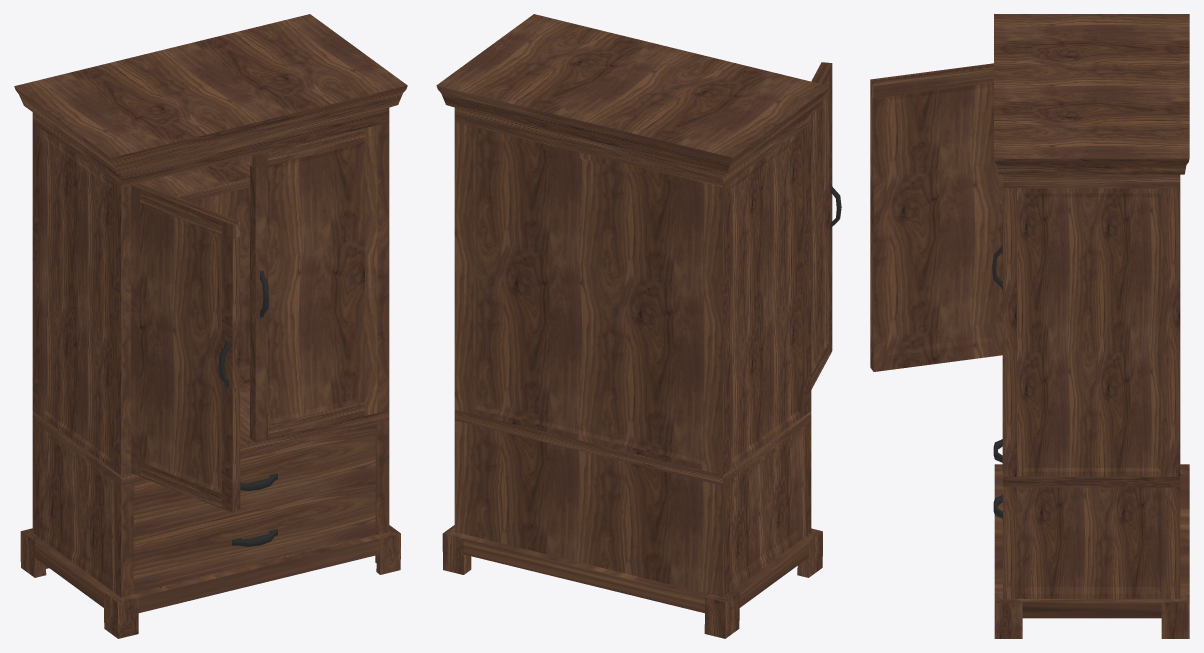
File: wardrobe.glb
3 views of the same model, side by side, from view 1: azimuth 30°, elevation 25°; view 2: azimuth 150°, elevation 25°; view 3: azimuth 270°, elevation 25° (orthographic).
Visible parts, largest first — view 1: Wardrobe, Wardrobe Door Right.001, Wardrobe Door Left.001, Wardrobe Drawer 2.001, Wardrobe Drawer 2.002; view 2: Wardrobe, Wardrobe Door Left.001; view 3: Wardrobe, Wardrobe Door Left.001, Wardrobe Door Right.001.
Boxes of the visible parts, x1,y1,x2,y2 form: Wardrobe: (14, 14, 407, 638); Wardrobe Door Right.001: (250, 125, 377, 442); Wardrobe Door Left.001: (131, 183, 240, 512); Wardrobe Drawer 2.001: (133, 478, 375, 593); Wardrobe Drawer 2.002: (133, 424, 375, 537); Wardrobe: (436, 14, 829, 638); Wardrobe Door Left.001: (811, 62, 841, 389); Wardrobe: (994, 14, 1189, 638); Wardrobe Door Left.001: (870, 63, 1002, 371); Wardrobe Door Right.001: (992, 175, 1002, 470).
Bounding box in the file's own units: 1.47 × 2.29 × 1.37.
3 materials, 1 textured.
